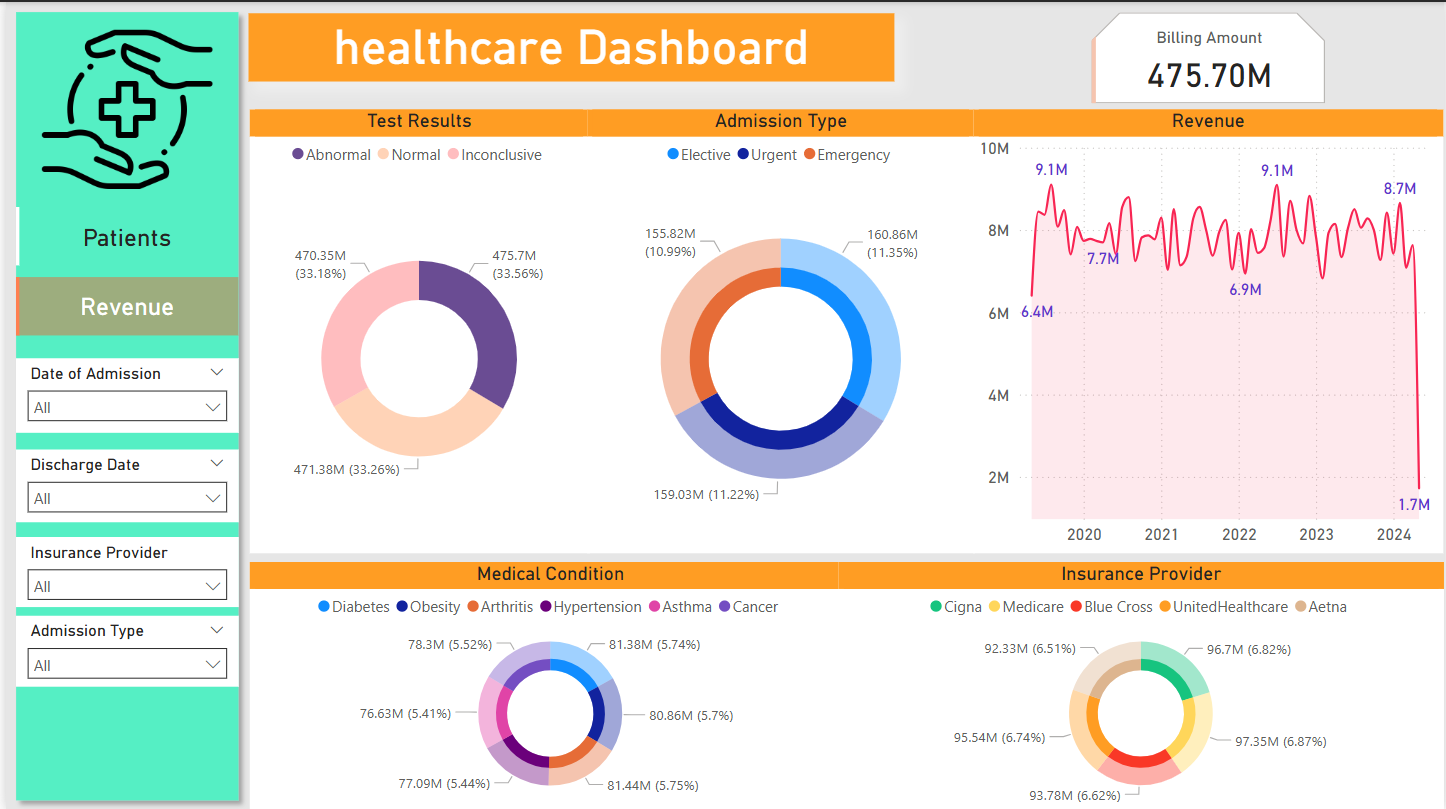

Layout of this report page (visuals, bound fields, positions):
{"tool":"powerbi","page":{"name":"Revenue","canvas":[1280,720],"ordinal":1},"visuals":[{"type":"donutChart","title":"Medical Condition","fields":{"Y":["Sum(healthcare_table.Billing Amount)"],"Category":["healthcare_table.Medical Condition"]},"box":[216.9,498.7,535.6,221.3],"z":0},{"type":"donutChart","title":"Test Results","fields":{"Category":["healthcare_table.Test Results"],"Y":["Sum(healthcare_table.Billing Amount)"]},"box":[216.9,95.7,302,395.1],"z":1000},{"type":"donutChart","title":"Admission Type","fields":{"Y":["Sum(healthcare_table.Billing Amount)"],"Category":["healthcare_table.Admission Type"]},"box":[518,95.7,345.1,395.1],"z":2000},{"type":"cardVisual","fields":{"Data":["Sum(healthcare_table.Billing Amount)"]},"box":[962,5,218,91],"z":3000},{"type":"donutChart","title":"Insurance Provider ","fields":{"Category":["healthcare_table.Insurance Provider"],"Y":["Sum(healthcare_table.Billing Amount)"]},"box":[741,499,539,221],"z":4000},{"type":"lineChart","title":"Revenue","fields":{"Y":["Sum(healthcare_table.Billing Amount)"],"Category":["healthcare_table.Date of Admission.Variation.Date Hierarchy.Year","healthcare_table.Date of Admission.Variation.Date Hierarchy.Month"]},"box":[862,96,418,395],"z":5000},{"type":"textbox","box":[216,10,575,61],"z":6000},{"type":"shape","box":[0,0,216,720],"z":7000},{"type":"slicer","fields":{"Values":["healthcare_table.Date of Admission.Variation.Date Hierarchy.Year","healthcare_table.Date of Admission.Variation.Date Hierarchy.Month"]},"box":[9,317,198,66],"z":8000},{"type":"slicer","fields":{"Values":["healthcare_table.Discharge Date.Variation.Date Hierarchy.Year","healthcare_table.Discharge Date.Variation.Date Hierarchy.Month"]},"box":[9,399,198,65],"z":9000},{"type":"slicer","fields":{"Values":["healthcare_table.Insurance Provider"]},"box":[9,476,198,62],"z":10000},{"type":"slicer","fields":{"Values":["healthcare_table.Admission Type"]},"box":[9,547,198,63],"z":11000},{"type":"pageNavigator","box":[8.8,182.6,198.4,115.9],"z":12000},{"type":"image","box":[22,10,171,171],"z":13000}]}

Visuals, with their boxes in screenshot pixels (x1, y1, x2, y2), scaled from the page's 1280x720 canvas onto the 1446x809 screenshot:
"Medical Condition" donutChart: locate(245, 560, 850, 808)
"Test Results" donutChart: locate(245, 108, 586, 551)
"Admission Type" donutChart: locate(585, 108, 975, 551)
cardVisual - Sum(healthcare_table.Billing Amount): locate(1087, 6, 1333, 108)
"Insurance Provider " donutChart: locate(837, 561, 1445, 808)
"Revenue" lineChart: locate(974, 108, 1445, 552)
textbox: locate(244, 11, 894, 80)
shape: locate(0, 0, 244, 808)
slicer - healthcare_table.Date of Admission.Variation.Date Hierarchy.Year x healthcare_table.Date of Admission.Variation.Date Hierarchy.Month: locate(10, 356, 234, 430)
slicer - healthcare_table.Discharge Date.Variation.Date Hierarchy.Year x healthcare_table.Discharge Date.Variation.Date Hierarchy.Month: locate(10, 448, 234, 521)
slicer - healthcare_table.Insurance Provider: locate(10, 535, 234, 605)
slicer - healthcare_table.Admission Type: locate(10, 615, 234, 685)
pageNavigator: locate(10, 205, 234, 335)
image: locate(25, 11, 218, 203)
